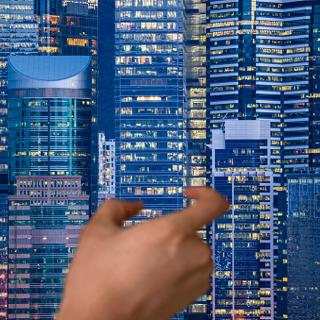HATE: (40, 179, 236, 320)
